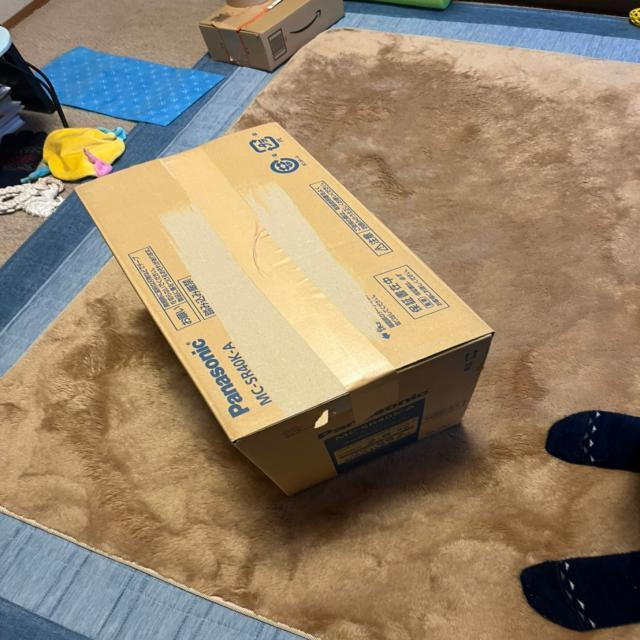box: (68, 118, 504, 506)
